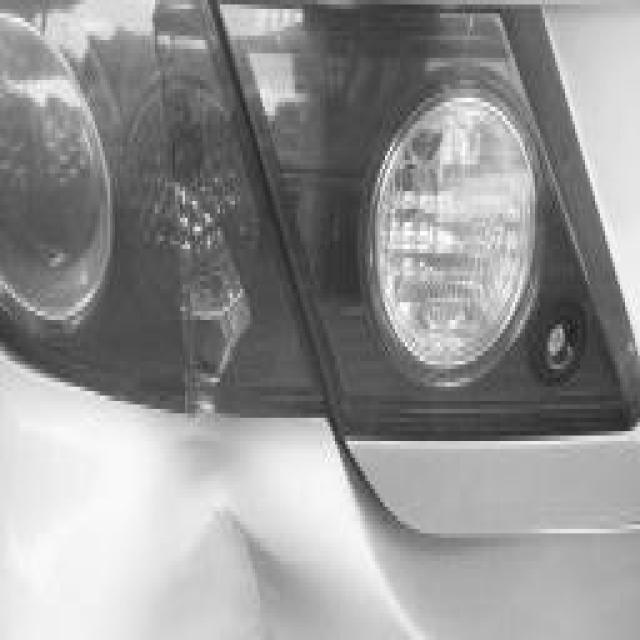Bumper: (178, 467, 348, 640)
